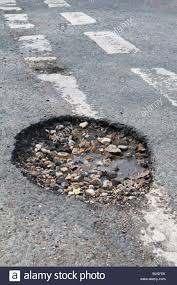pothole: (12, 116, 157, 208)
